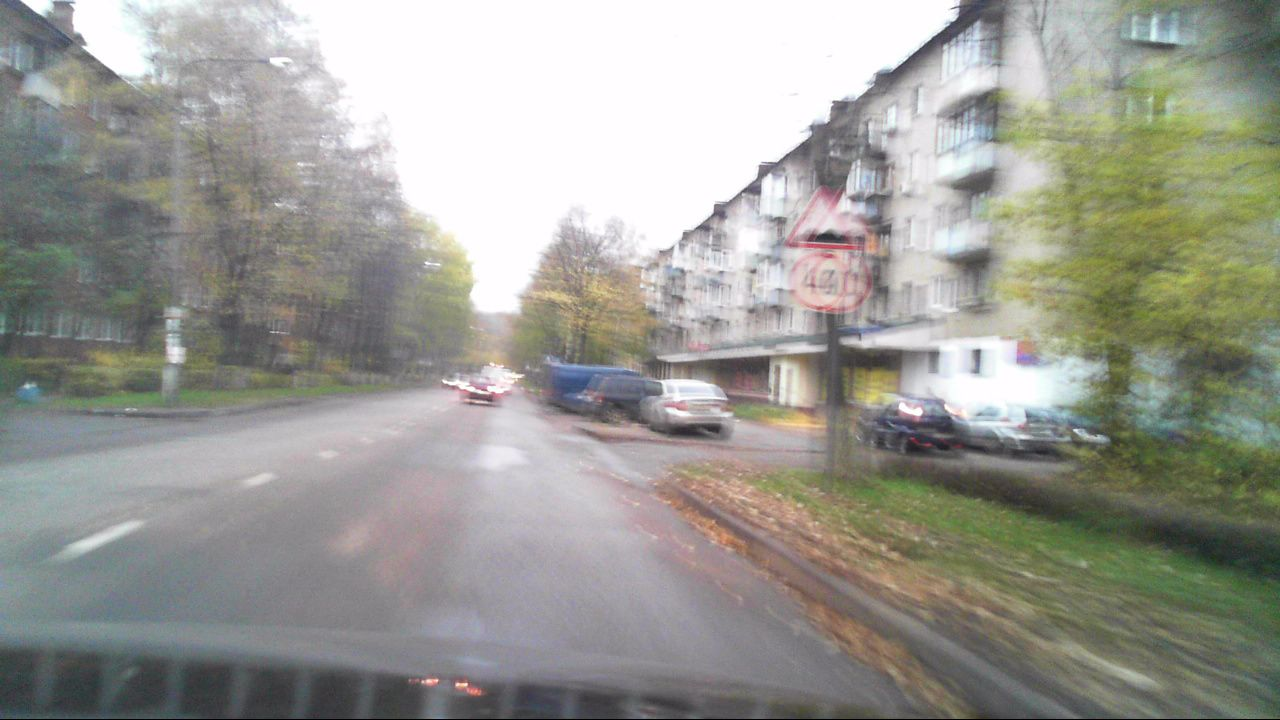speed_warning_40: (788, 250, 844, 307)
